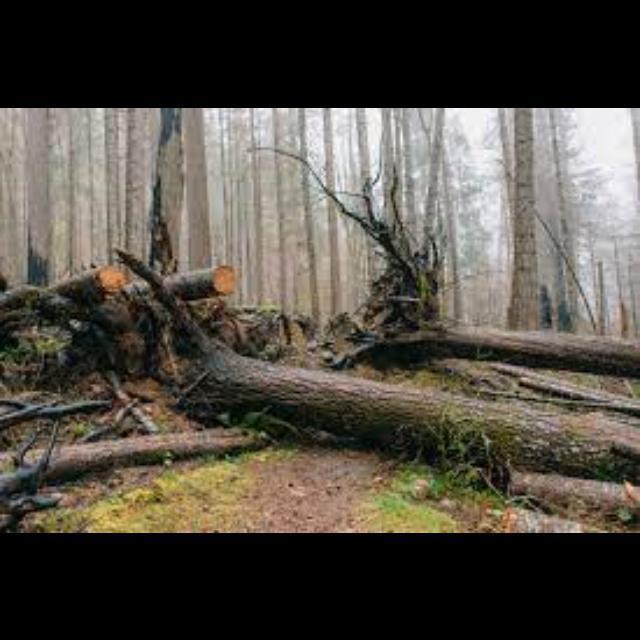fallen_tree: (111, 263, 639, 493), (344, 244, 640, 386), (4, 418, 278, 490)
